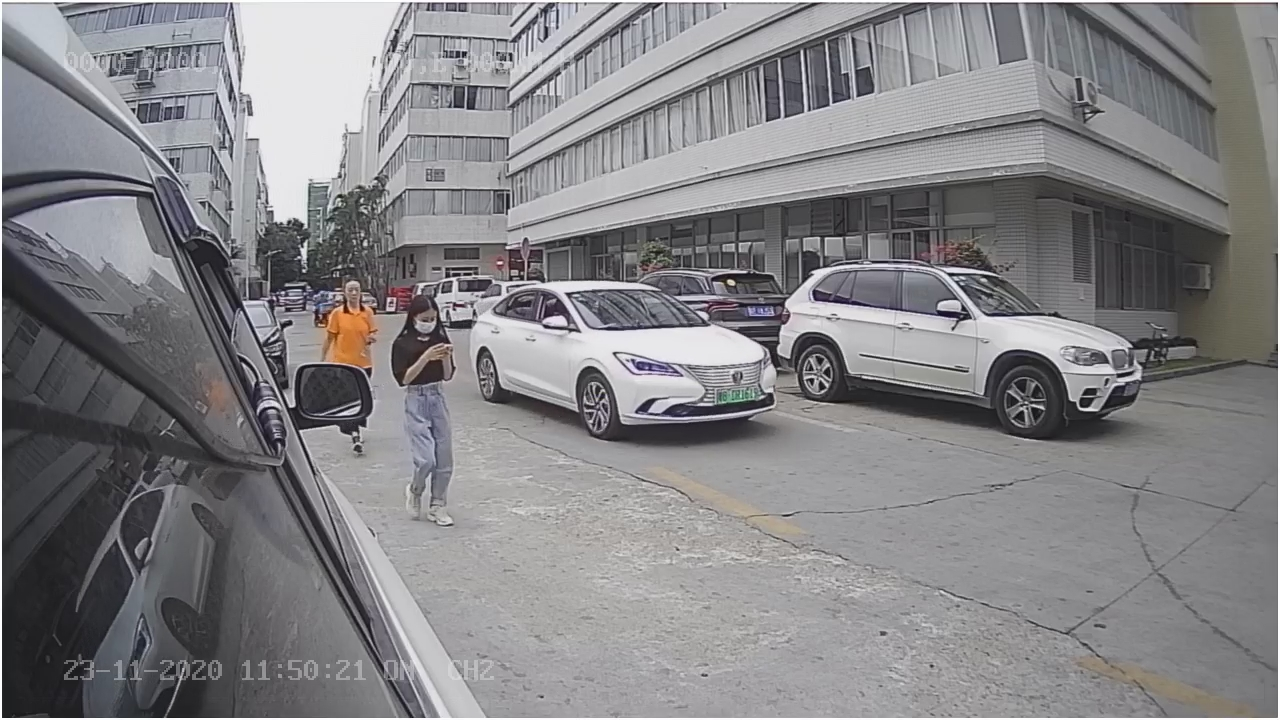person: (387, 285, 461, 527)
